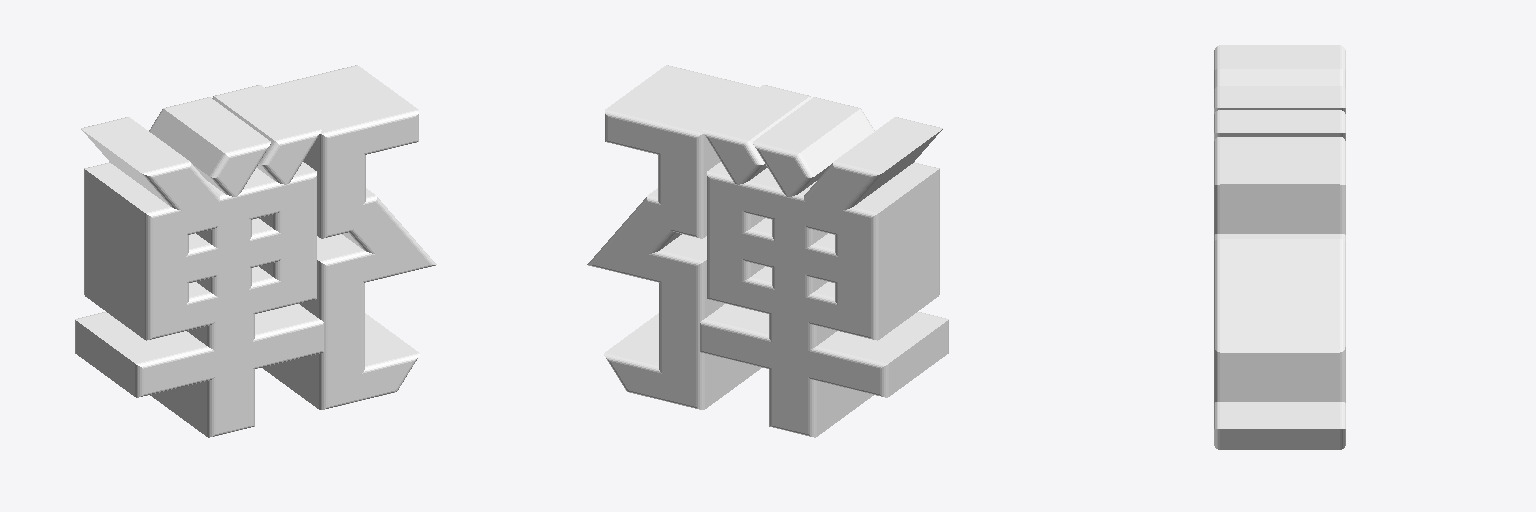
3 renders of one model, left to right at view 1: azimuth 30°, elevation 25°; view 2: azimuth 150°, elevation 25°; view 3: azimuth 270°, elevation 25°, orthographic.
Visible parts, largest first — view 1: 弾(2); view 2: 弾(2); view 3: 弾(2).
Boxes of the visible parts, x1,y1,x2,y2 form: 弾(2): [75, 65, 436, 437]; 弾(2): [587, 65, 948, 437]; 弾(2): [1214, 45, 1345, 449].
Bounding box in the file's own units: 0.5801 × 0.5163 × 0.22.
1 materials, 1 textured.